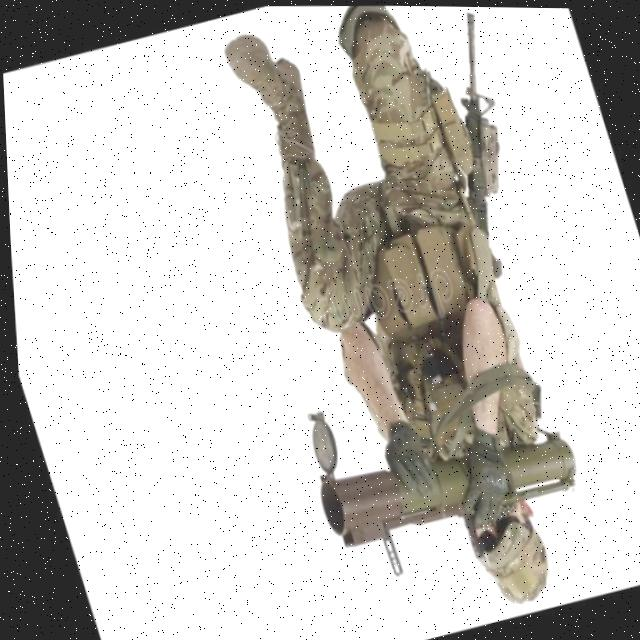rocket: (285, 349, 596, 589)
